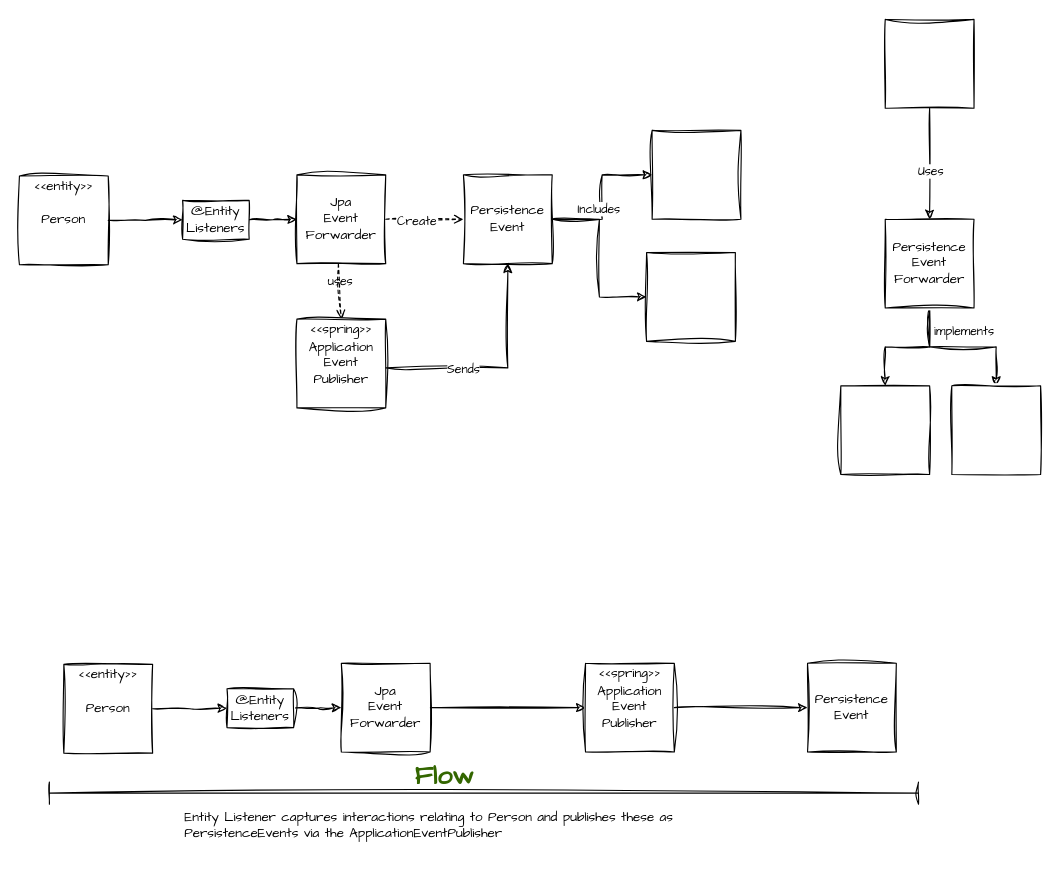
Image size: 1060x876. Some labels were removed from this diagram. The centre of each missing label's shape, as x and y in pixels:
"Application Listener" goes at pixel 885 430.
"Consumer < FluxSink<> >" goes at pixel 996 430.
"Persistence Event Data" goes at pixel 690 296.
"Persistence Event Type" goes at pixel 696 174.
"WebSocket Handler" goes at pixel 929 63.
